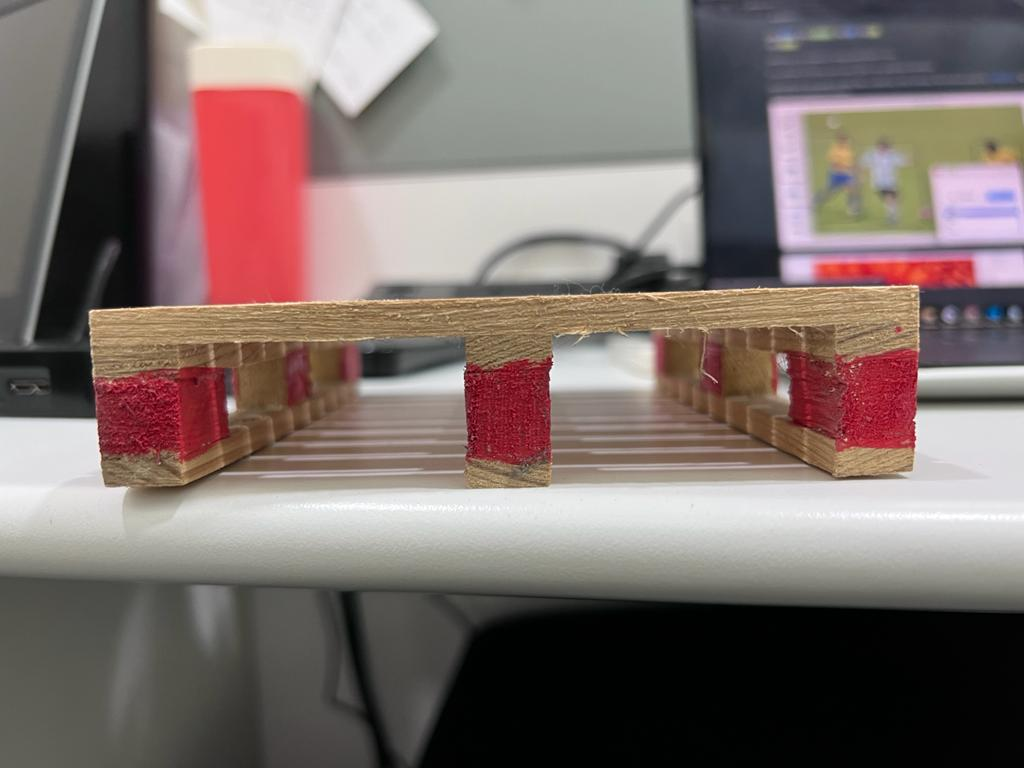pallet: (82, 304, 941, 490)
